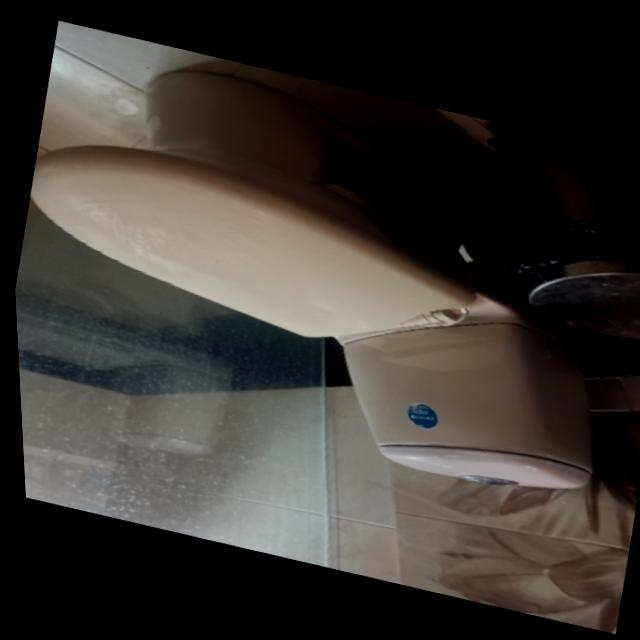toilet: (1, 35, 640, 509)
